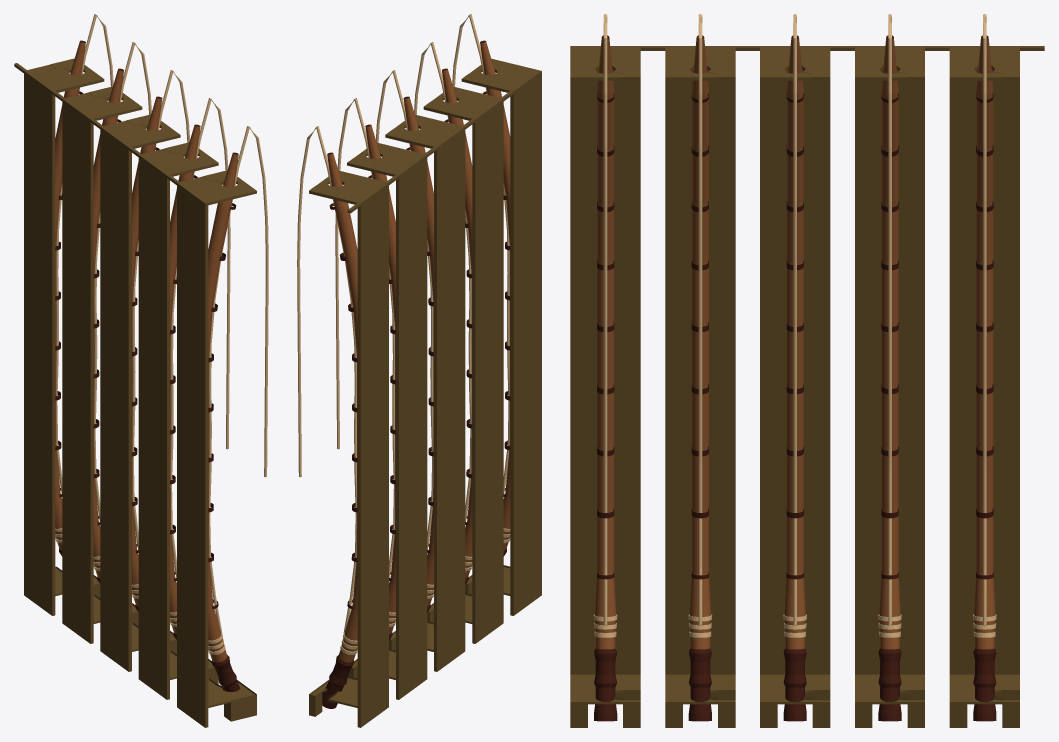
File: varas suporte.fbx
The picture shows the model from 3 angles, left to right: view 1: azimuth 30°, elevation 25°; view 2: azimuth 150°, elevation 25°; view 3: azimuth 270°, elevation 25°; orthographic projection. The views are drawn at different scales.
Visible parts, largest first — view 1: Cylinder.001; view 2: Cylinder.001; view 3: Cylinder.001.
Part boxes in pixels (x1,y1,x2,y2): Cylinder.001: (14, 14, 268, 727); Cylinder.001: (297, 14, 541, 727); Cylinder.001: (570, 14, 1044, 727).
Size of the model in its own units: 99.07 by 705 by 423.
